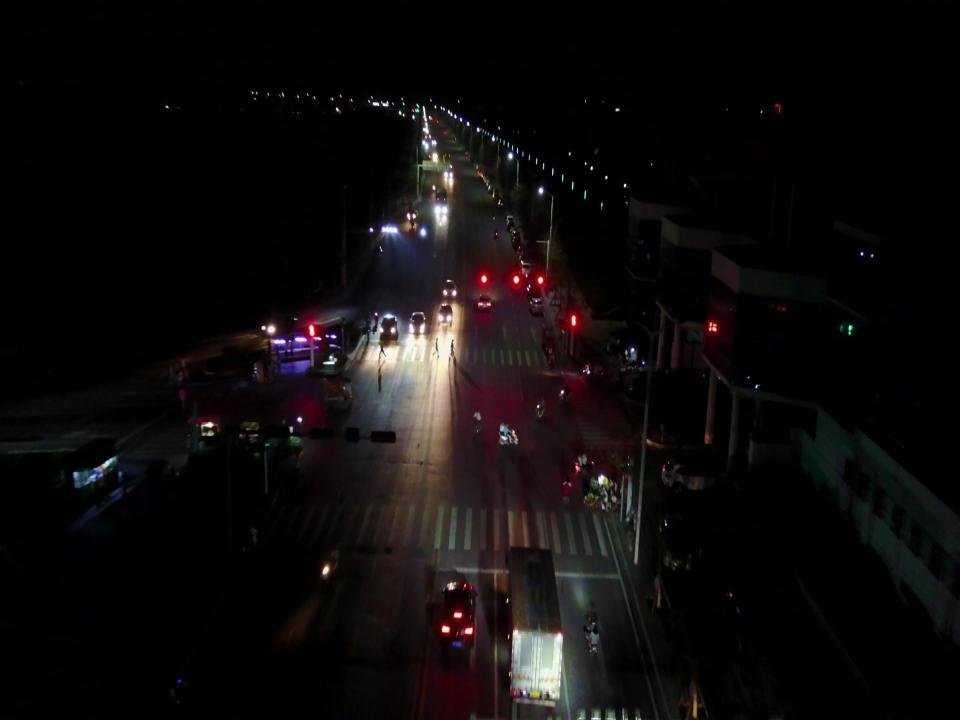car: (657, 516, 705, 579), (441, 581, 479, 659), (662, 456, 722, 493), (323, 372, 353, 412), (380, 314, 398, 346), (409, 310, 426, 337), (438, 303, 454, 327), (543, 326, 557, 352), (530, 293, 544, 316), (443, 277, 457, 299), (477, 294, 493, 312), (436, 189, 448, 204)
truck: (502, 543, 564, 713)
